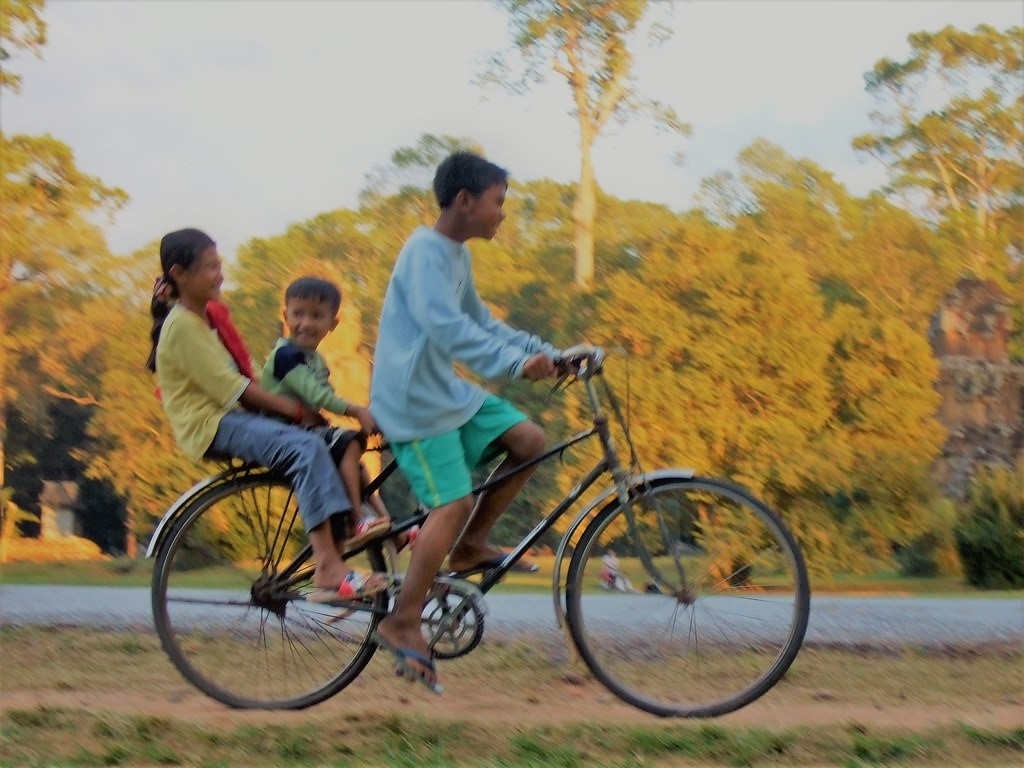face_no_mask: (435, 153, 508, 240), (158, 230, 225, 303), (281, 275, 343, 350)
